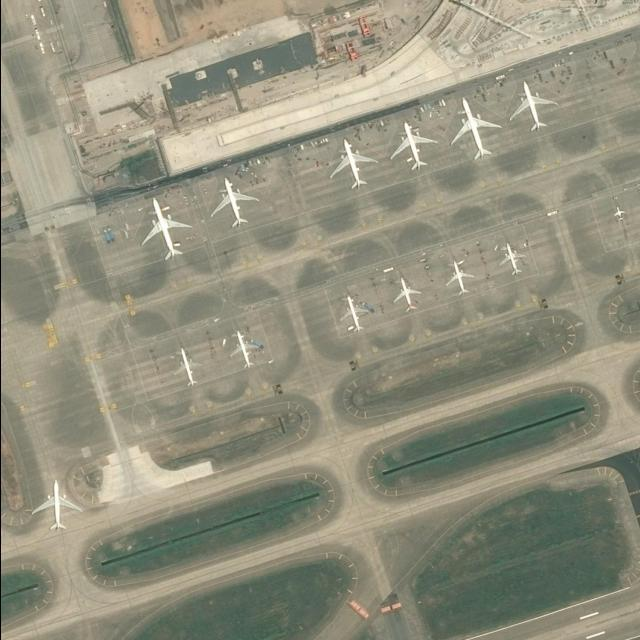Aircraft: (139, 199, 194, 265), (448, 97, 501, 161), (30, 479, 84, 535), (387, 122, 437, 176), (328, 140, 379, 192), (508, 83, 557, 136), (209, 180, 259, 228), (172, 346, 202, 390), (229, 331, 261, 372), (339, 297, 369, 335), (392, 278, 422, 316), (444, 262, 475, 298), (498, 242, 526, 278), (612, 206, 628, 224)
